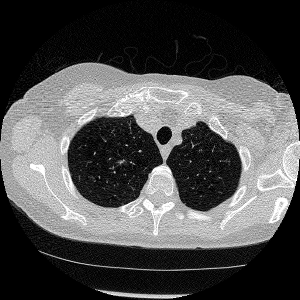nodule: (118, 159, 124, 165)
